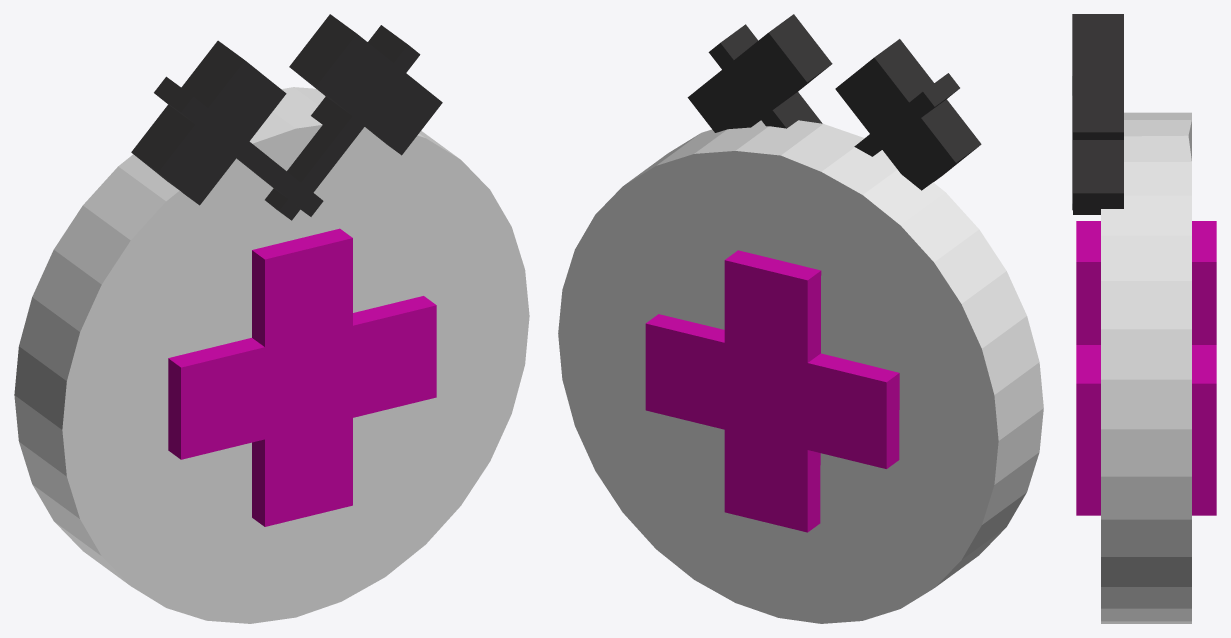
The model's file is HealingItem.fbx.
The picture shows the model from 3 angles, left to right: view 1: azimuth 30°, elevation 25°; view 2: azimuth 150°, elevation 25°; view 3: azimuth 270°, elevation 25°; orthographic projection. The views are drawn at different scales.
Parts seen in each view (by area): view 1: Cube; view 2: Cube; view 3: Cube.
Part boxes in pixels (x1,y1,x2,y2): Cube: (14,14,529,623); Cube: (558,14,1043,623); Cube: (1072,14,1216,623).
Size of the model in its own units: 90.06 by 108 by 25.35.
